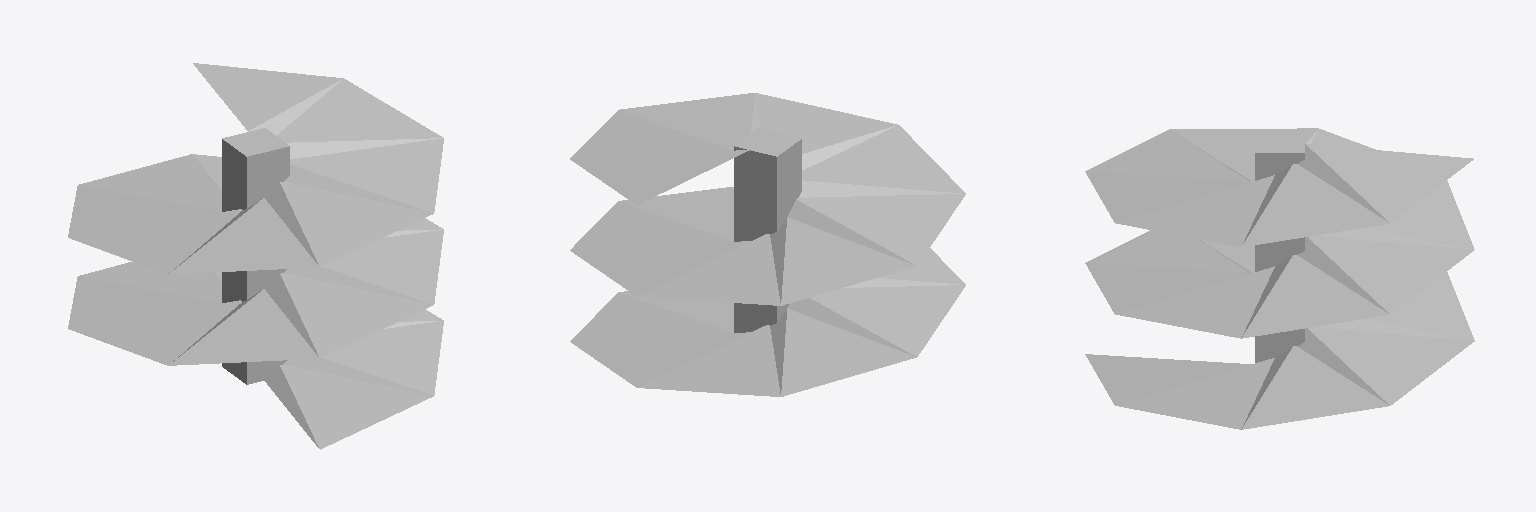
The model's file is corkscrew.obj.
3 renders of one model, left to right at view 1: azimuth 30°, elevation 25°; view 2: azimuth 150°, elevation 25°; view 3: azimuth 270°, elevation 25°, orthographic.
Size of the model in its own units: 15.5 by 10.03 by 15.5.